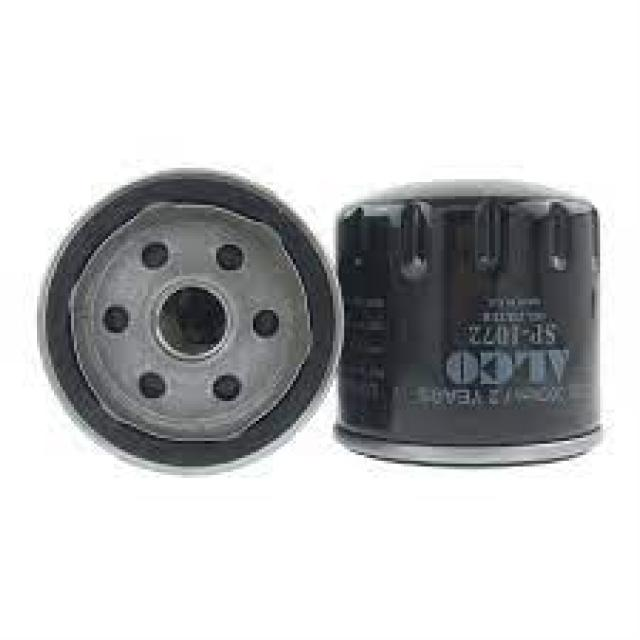oil_filter: (40, 163, 332, 482), (341, 182, 613, 476)
